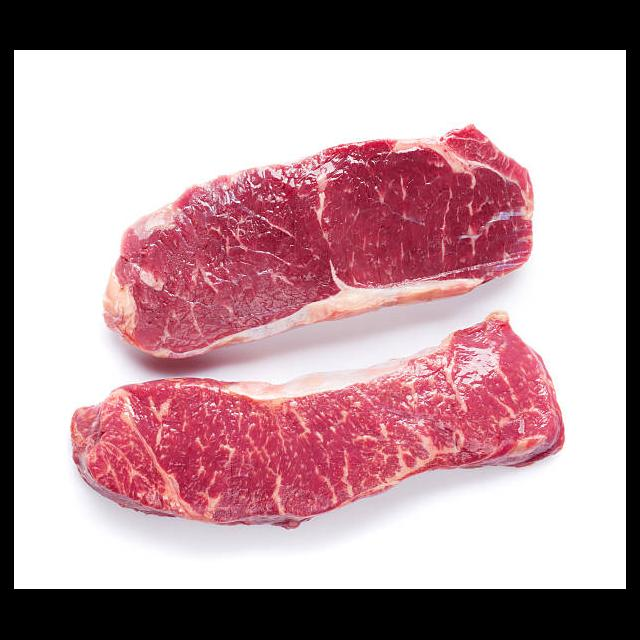beef: (69, 312, 565, 534), (103, 123, 537, 360)
